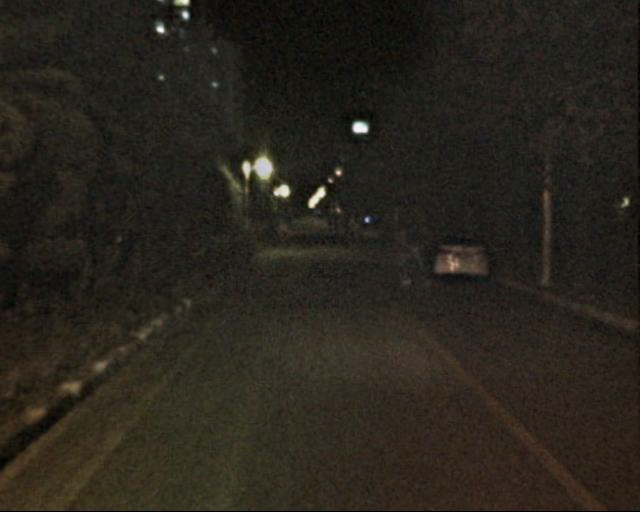person: (414, 224, 442, 292), (391, 227, 417, 290), (325, 217, 354, 242), (274, 216, 288, 250)
